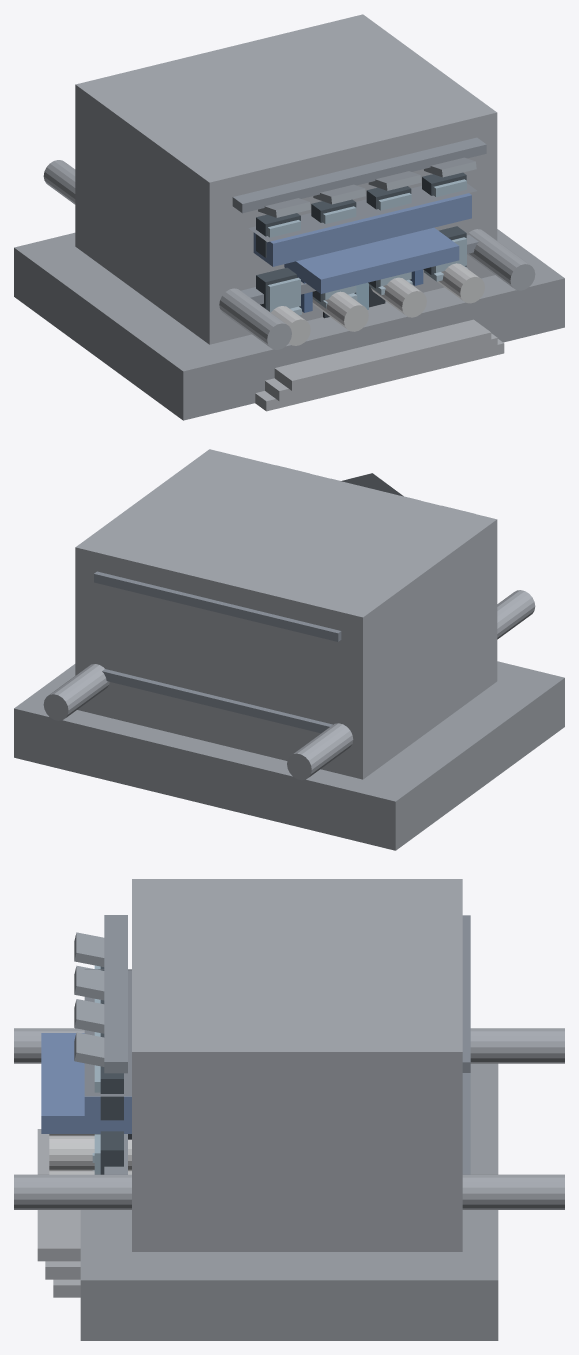
The model's file is post_office.glb.
3 views of the same model, one above another, from view 1: azimuth 30°, elevation 25°; view 2: azimuth 150°, elevation 25°; view 3: azimuth 270°, elevation 25° (orthographic). The views are drawn at different scales.
Visible parts, largest first — view 1: world; view 2: world; view 3: world.
Boxes of the visible parts, x1=… form: world: x1=14, y1=14, x2=564, y2=420; world: x1=14, y1=449, x2=564, y2=850; world: x1=14, y1=879, x2=564, y2=1340.
Bounding box in the file's own units: 1.38 × 0.7832 × 1.4.
